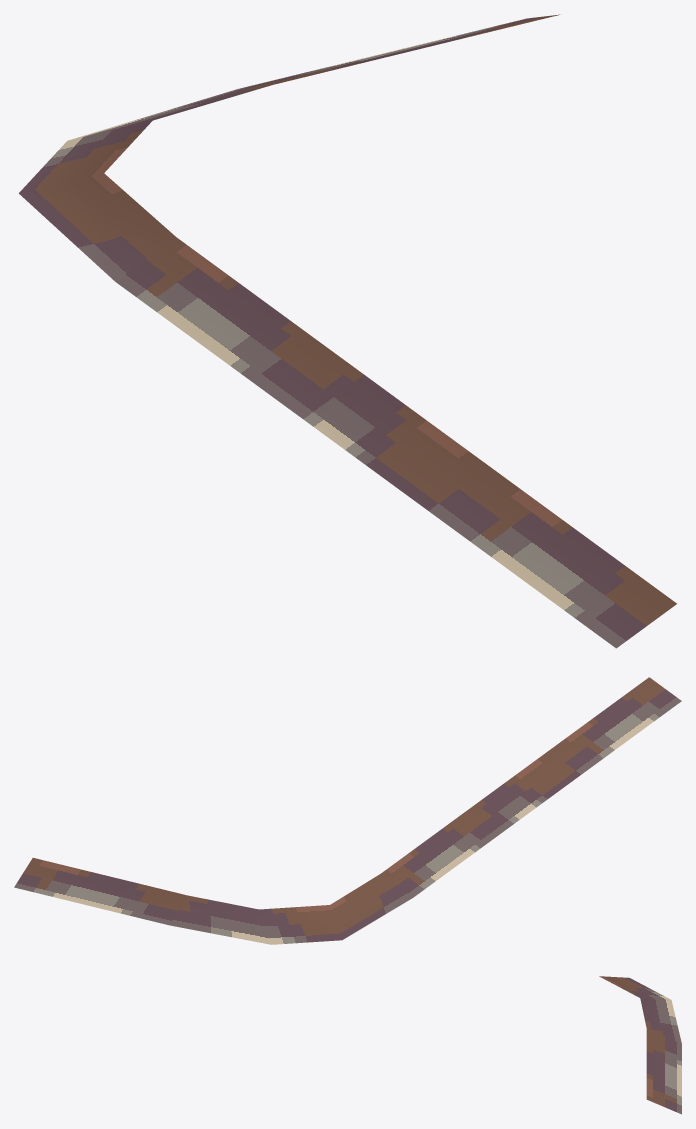
The model's file is hgss-piece-004-element-18-0.glb.
The picture shows the model from 3 angles, top to bottom: view 1: azimuth 30°, elevation 25°; view 2: azimuth 150°, elevation 25°; view 3: azimuth 270°, elevation 25°; orthographic projection. The views are drawn at different scales.
Size of the model in its own units: 2 by 0.0986 by 4.
1 material, 1 textured.
